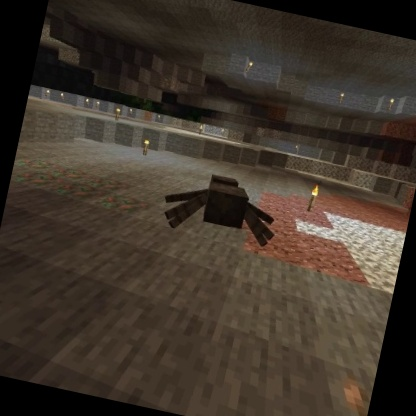spider: (154, 160, 287, 254)
